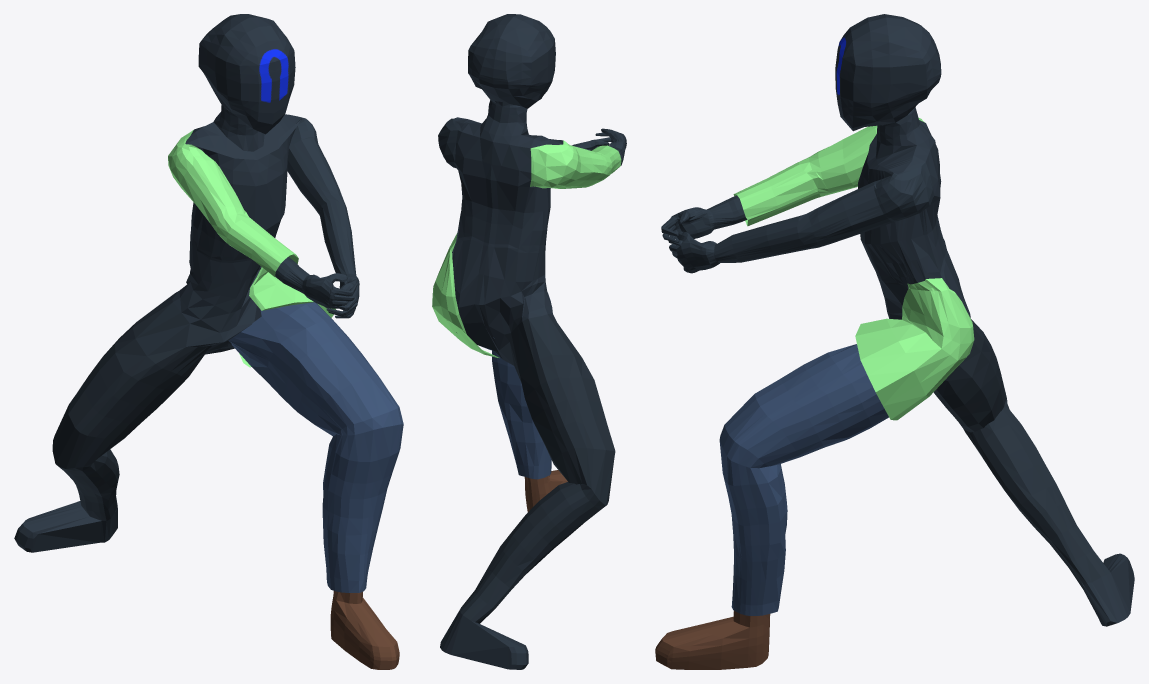
File: Mar_Attack_000025.obj
The picture shows the model from 3 angles, left to right: view 1: azimuth 30°, elevation 25°; view 2: azimuth 150°, elevation 25°; view 3: azimuth 270°, elevation 25°; orthographic projection. The views are drawn at different scales.
Parts seen in each view (by area): view 1: Cube.000_Cube.001; view 2: Cube.000_Cube.001; view 3: Cube.000_Cube.001.
Boxes of the visible parts, x1,y1,x2,y2 form: Cube.000_Cube.001: (14, 14, 403, 669); Cube.000_Cube.001: (432, 14, 626, 669); Cube.000_Cube.001: (655, 14, 1134, 669).
Size of the model in its own units: 1.36 by 3.33 by 2.3.
